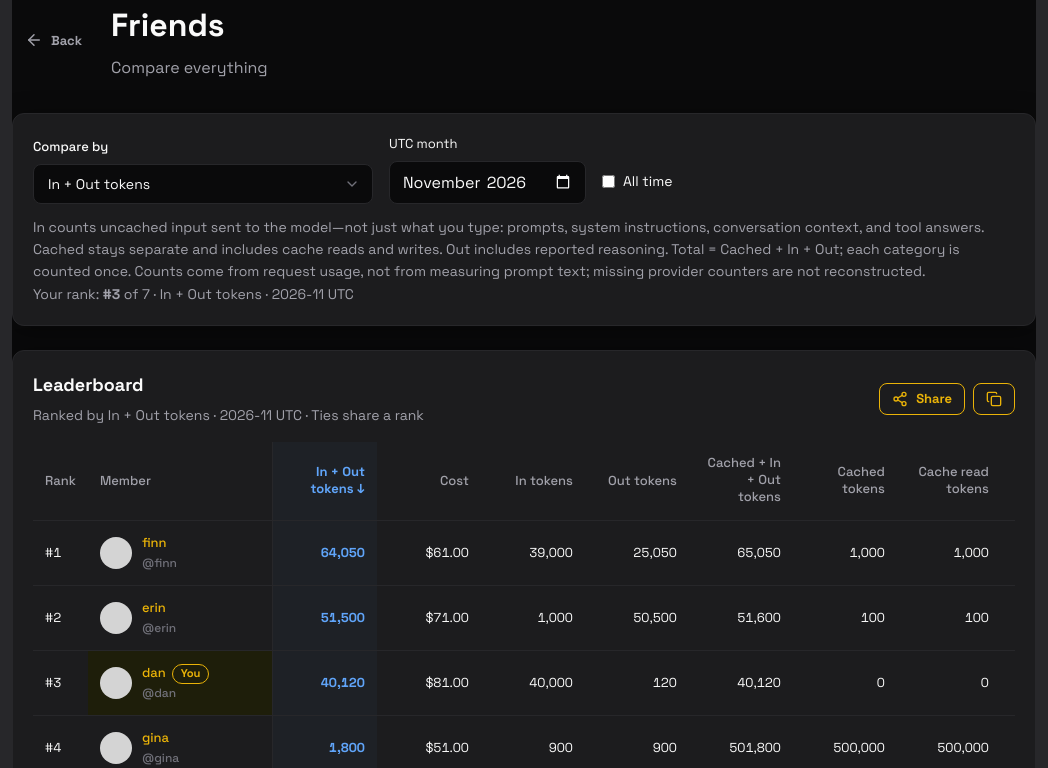
Scenario: independent group comparisons › lets a column heading switch the ranking metric too
Click the button with aria-label "Rank by Cached + In + Out tokens".
click(741, 480)  # box [701,454,781,505]
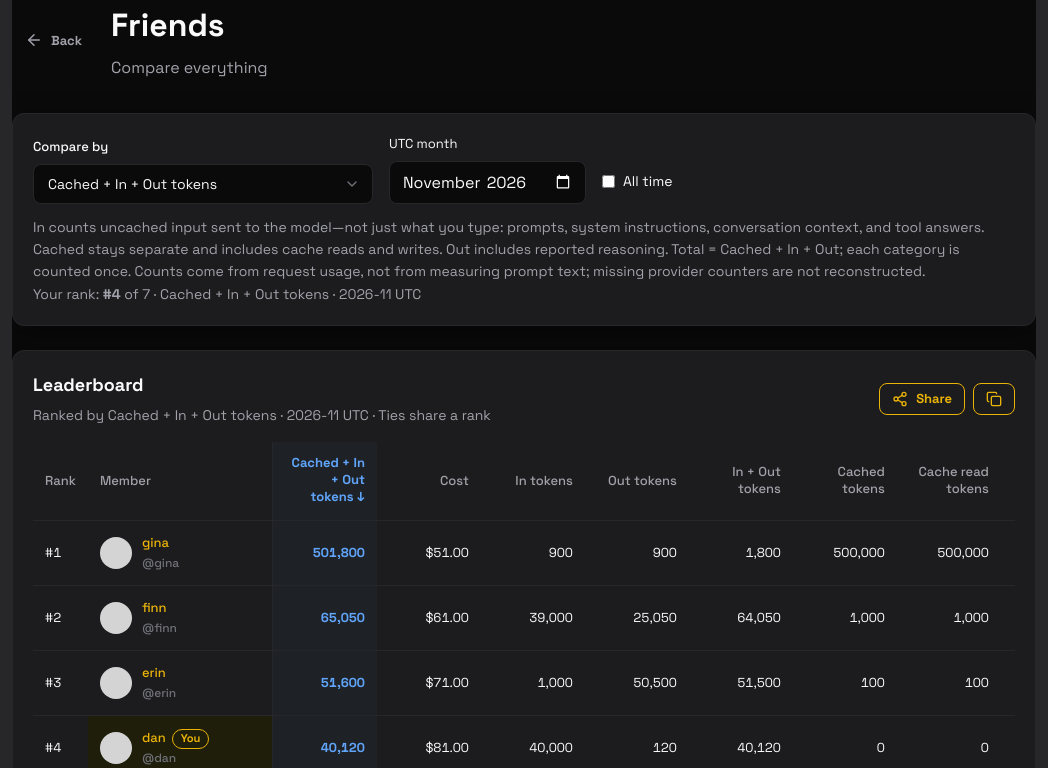
Check: the link "gina" is shown, box [142,534,169,551]
Check: the dropdown labelled "Compare by" shows "Cached + In + Out tokens", box [33,164,373,204]
